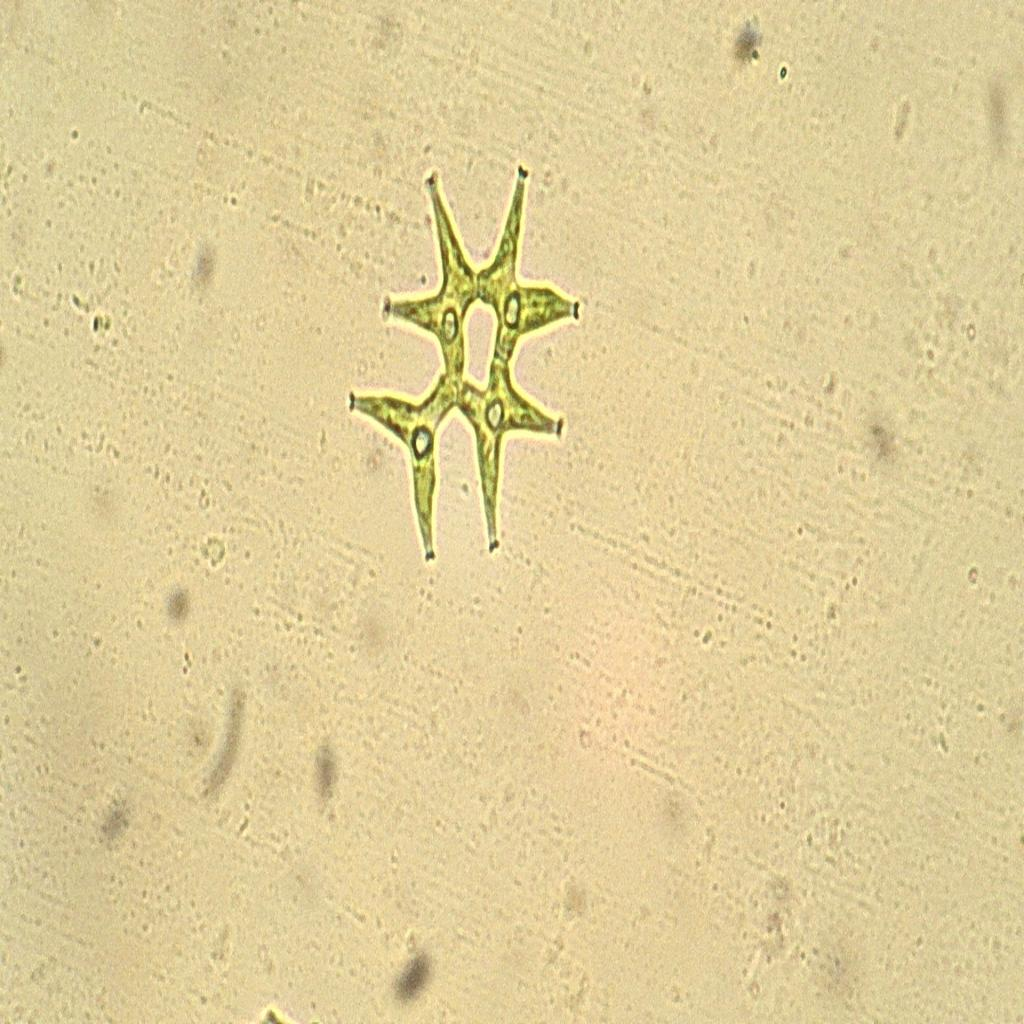Pediastrum_75FI: (337, 122, 608, 588)
